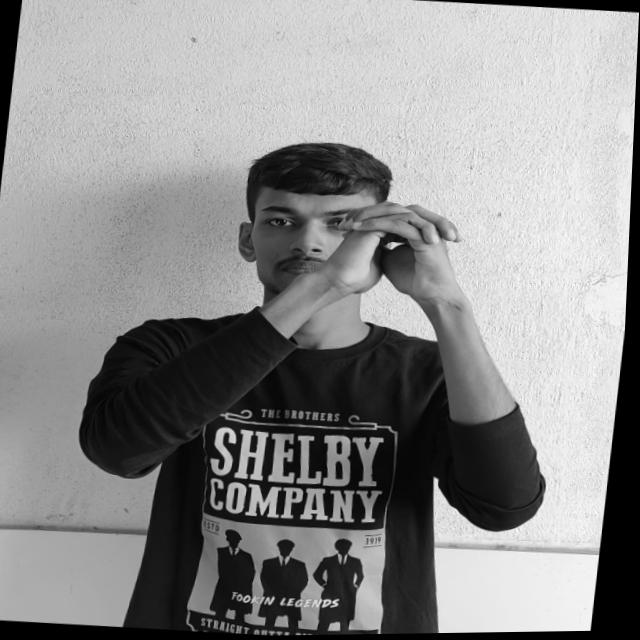Sorry: (327, 196, 465, 310)
